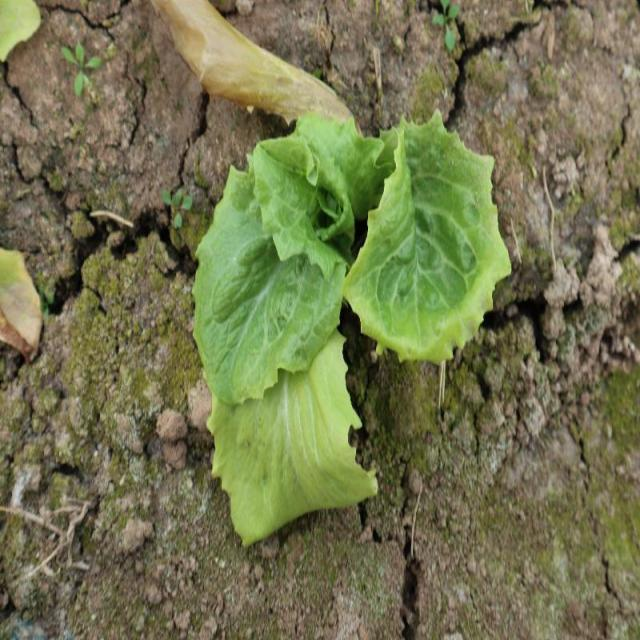crop: (191, 108, 512, 548)
